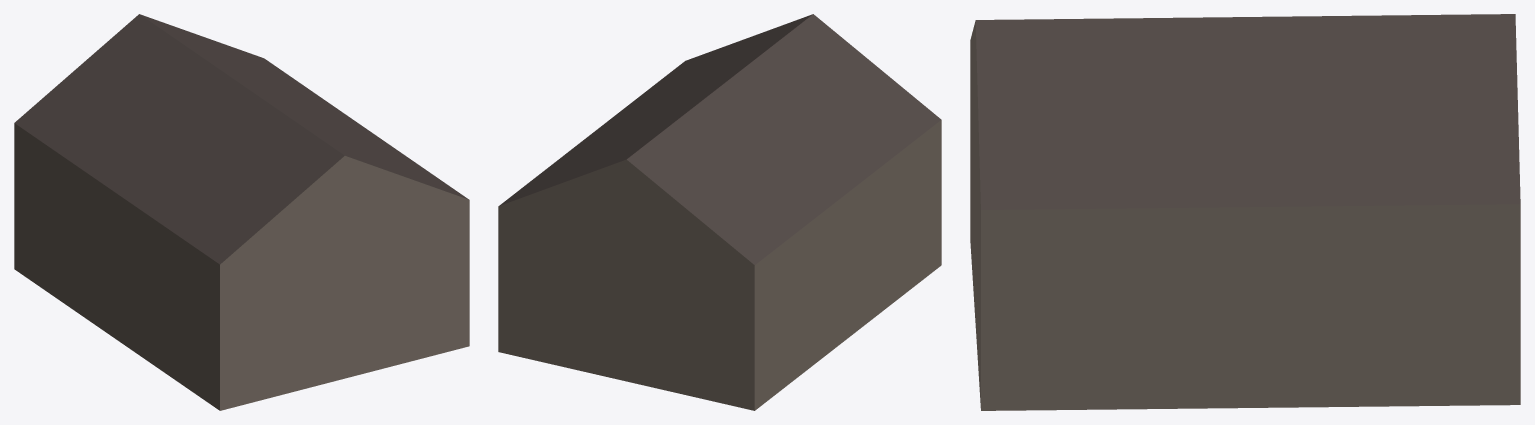
The picture shows the model from 3 angles, left to right: view 1: azimuth 30°, elevation 25°; view 2: azimuth 150°, elevation 25°; view 3: azimuth 270°, elevation 25°; orthographic projection. The views are drawn at different scales.
Parts seen in each view (by area): view 1: HP-w859078902; view 2: HP-w859078902; view 3: HP-w859078902.
Part boxes in pixels (x1,y1,x2,y2): HP-w859078902: (14, 14, 469, 410); HP-w859078902: (498, 14, 941, 410); HP-w859078902: (970, 14, 1520, 410).
Bounding box in the file's own units: 11.27 × 9.14 × 14.9.
